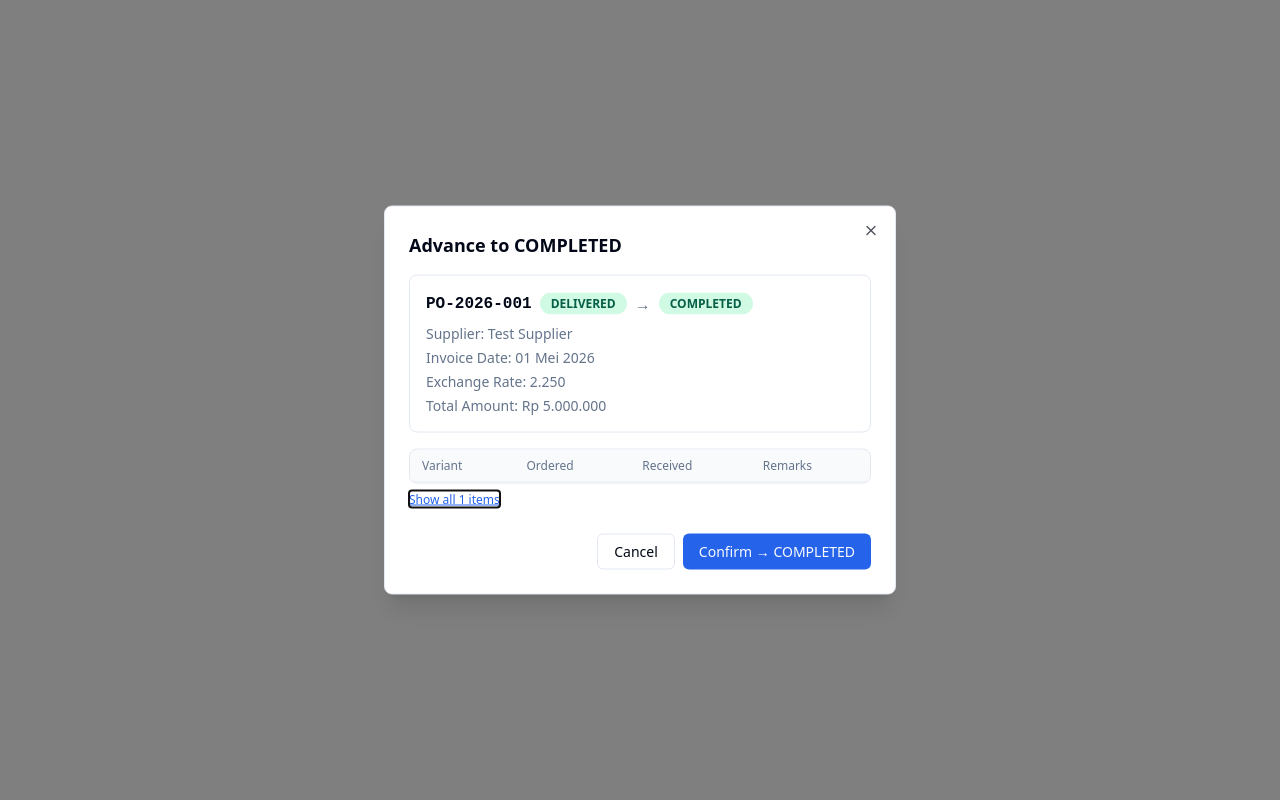
Scenario: COMPLETED transition — editable received qty › recomputes the discrepancy warning live as qty is edited
This screenshot has width=1280, height=800.
Check: the text "Warning" is not shown
Click the button "Show all 1 items" at (454,500), box [409,492,500,508]
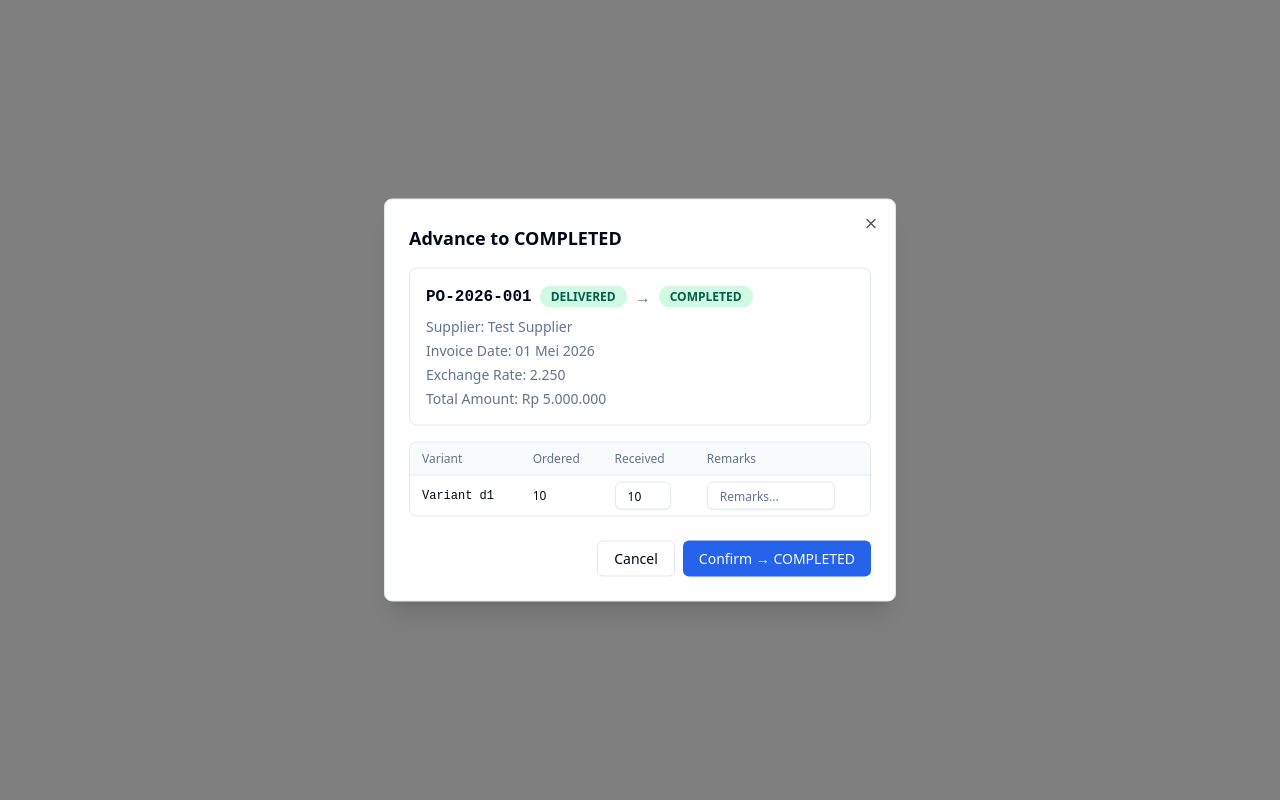
Replace the text in the number field showing "10" with "7" at (643,496), box [615,482,671,510]
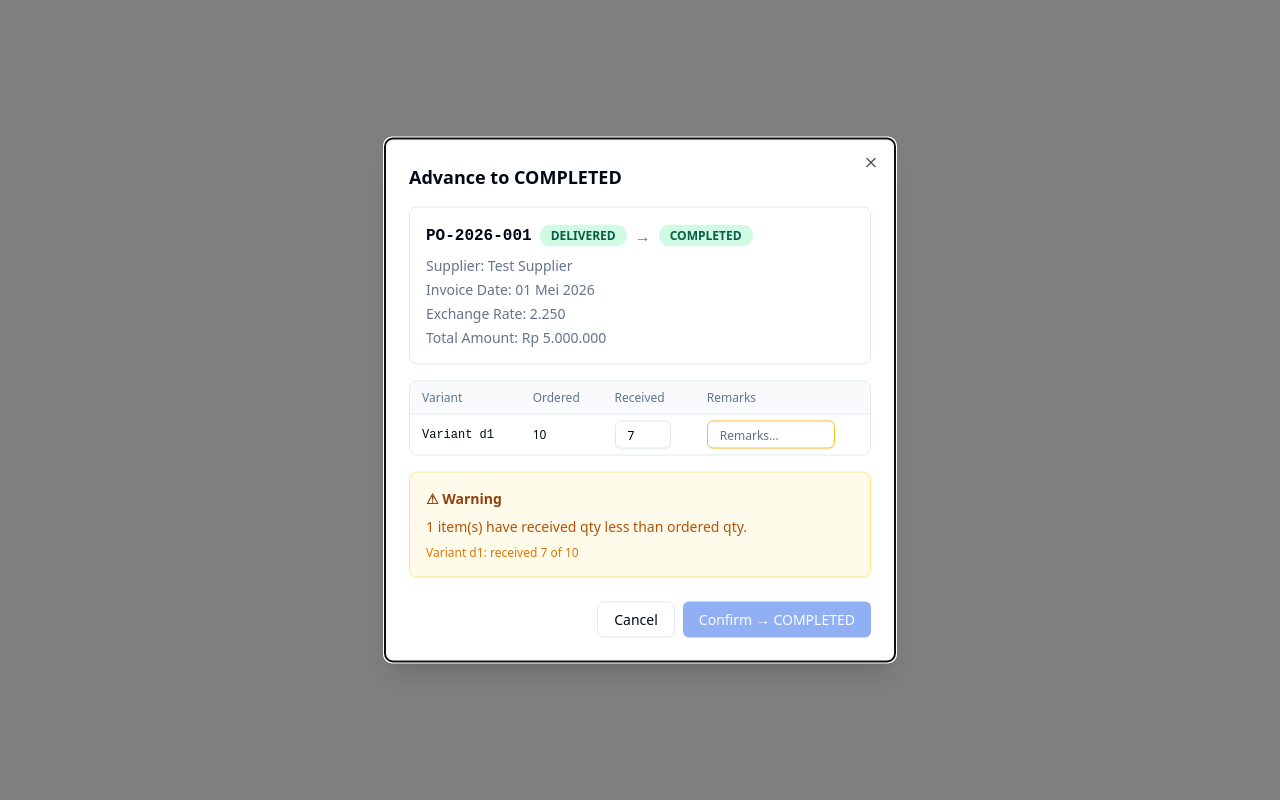
Check: the text "⚠ Warning" is shown, box [426,488,502,508]
Check: the list item "Variant d1: received 7 of 10" is shown, box [426,544,579,560]
